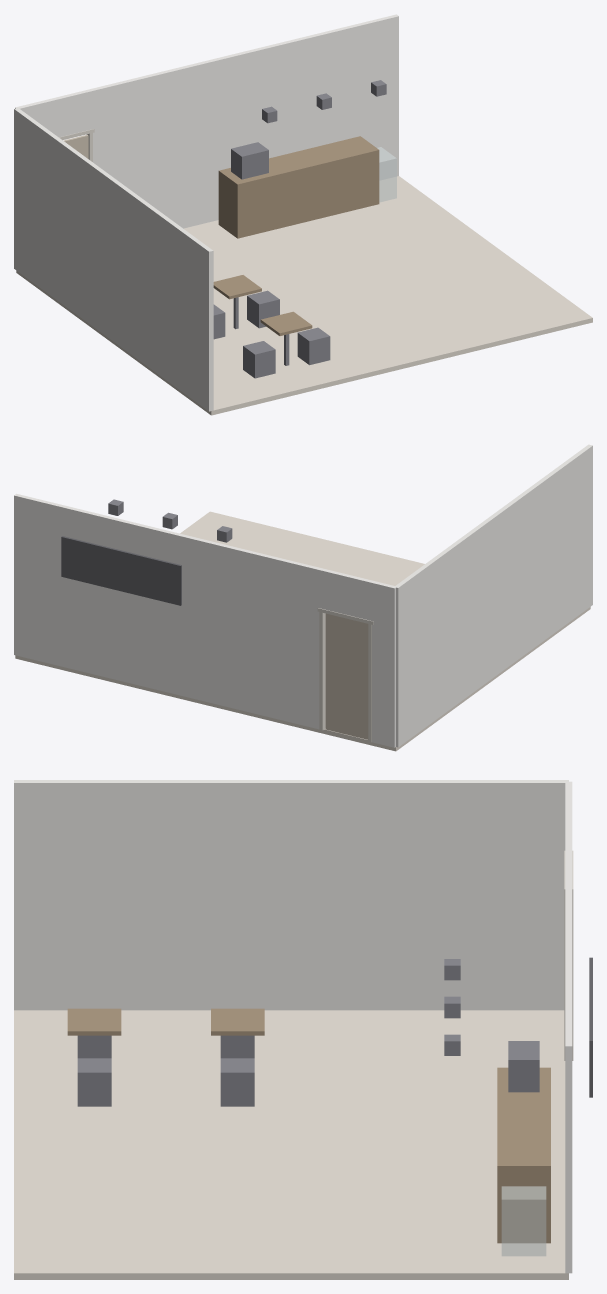
The model's file is scene-cafe.glb.
3 renders of one model, top to bottom at view 1: azimuth 30°, elevation 25°; view 2: azimuth 150°, elevation 25°; view 3: azimuth 270°, elevation 25°, orthographic. The views are drawn at different scales.
Visible parts, largest first — view 1: floor, wall_back_r, wall_left, bar_counter, wall_back_lintel, espresso_machine, cafe_chair_1_1, cafe_chair_1_0, cafe_chair_0_1, pastry_case, cafe_table_1, cafe_table_0; view 2: wall_back_r, wall_left, floor, door_back, menu_board, wall_back_l, wall_back_lintel, frame_back_r, frame_back_l; view 3: floor, wall_left, bar_counter, wall_back_r, pastry_case, cafe_chair_0_1, cafe_chair_1_1, espresso_machine, cafe_table_1, cafe_table_0, cafe_chair_0_0, cafe_chair_1_0 (+1 smaller).
Part boxes in pixels (left/top/right/bottom): floor: left=16, top=176, right=592, bottom=415; wall_back_r: left=89, top=14, right=398, bottom=228; wall_left: left=14, top=108, right=213, bottom=411; bar_counter: left=218, top=136, right=379, bottom=238; wall_back_lintel: left=38, top=88, right=94, bottom=137; espresso_machine: left=231, top=142, right=268, bottom=179; cafe_chair_1_1: left=297, top=327, right=330, bottom=365; cafe_chair_1_0: left=243, top=341, right=275, bottom=378; cafe_chair_0_1: left=247, top=290, right=279, bottom=328; pastry_case: left=377, top=147, right=396, bottom=202; cafe_table_1: left=260, top=311, right=312, bottom=335; cafe_table_0: left=213, top=275, right=261, bottom=299; wall_back_r: left=14, top=493, right=323, bottom=729; wall_left: left=395, top=444, right=592, bottom=747; floor: left=15, top=511, right=590, bottom=751; door_back: left=325, top=613, right=368, bottom=739; menu_board: left=61, top=536, right=181, bottom=605; wall_back_l: left=370, top=581, right=396, bottom=747; wall_back_lintel: left=318, top=569, right=375, bottom=620; frame_back_r: left=319, top=610, right=325, bottom=730; frame_back_l: left=368, top=622, right=371, bottom=742; floor: left=14, top=1010, right=568, bottom=1279; wall_left: left=14, top=780, right=568, bottom=1010; bar_counter: left=497, top=1067, right=550, bottom=1243; wall_back_r: left=565, top=832, right=572, bottom=1273; pastry_case: left=501, top=1186, right=546, bottom=1256; cafe_chair_0_1: left=220, top=1058, right=254, bottom=1106; cafe_chair_1_1: left=77, top=1058, right=111, bottom=1106; espresso_machine: left=508, top=1041, right=539, bottom=1092; cafe_table_1: left=67, top=1008, right=121, bottom=1035; cafe_table_0: left=211, top=1008, right=264, bottom=1035; cafe_chair_0_0: left=220, top=1035, right=254, bottom=1058; cafe_chair_1_0: left=77, top=1035, right=111, bottom=1058.
Bounding box in the file's own units: 7.04 × 2.88 × 6.47.
